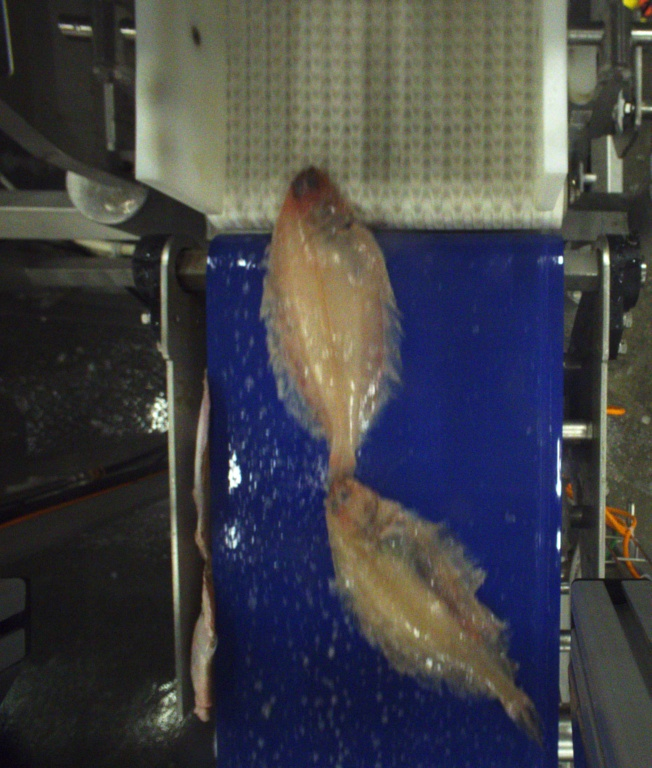WIT: (315, 472, 545, 736)
